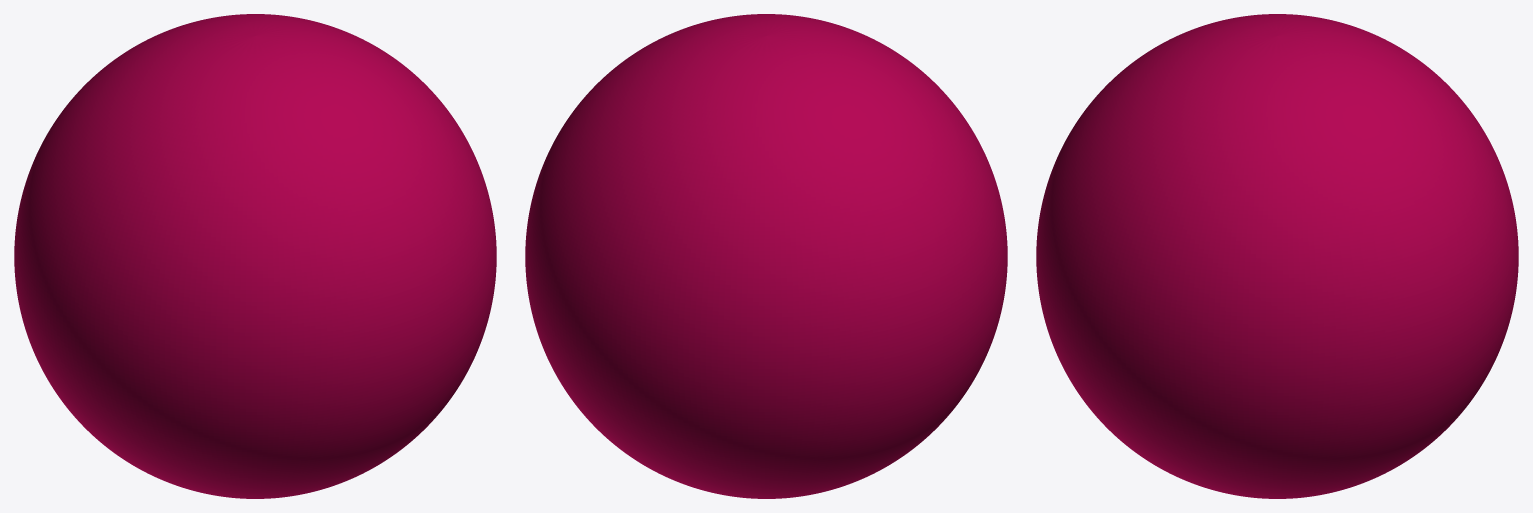
Rendered from Ball.fbx.
3 views of the same model, side by side, from view 1: azimuth 30°, elevation 25°; view 2: azimuth 150°, elevation 25°; view 3: azimuth 270°, elevation 25° (orthographic).
Visible parts, largest first — view 1: SphereExtern; view 2: SphereExtern; view 3: SphereExtern.
Boxes of the visible parts, bbox=[...] form: SphereExtern: bbox=[14, 14, 496, 498]; SphereExtern: bbox=[525, 14, 1007, 498]; SphereExtern: bbox=[1036, 14, 1518, 498].
Size of the model in its own units: 299 by 301 by 299.
